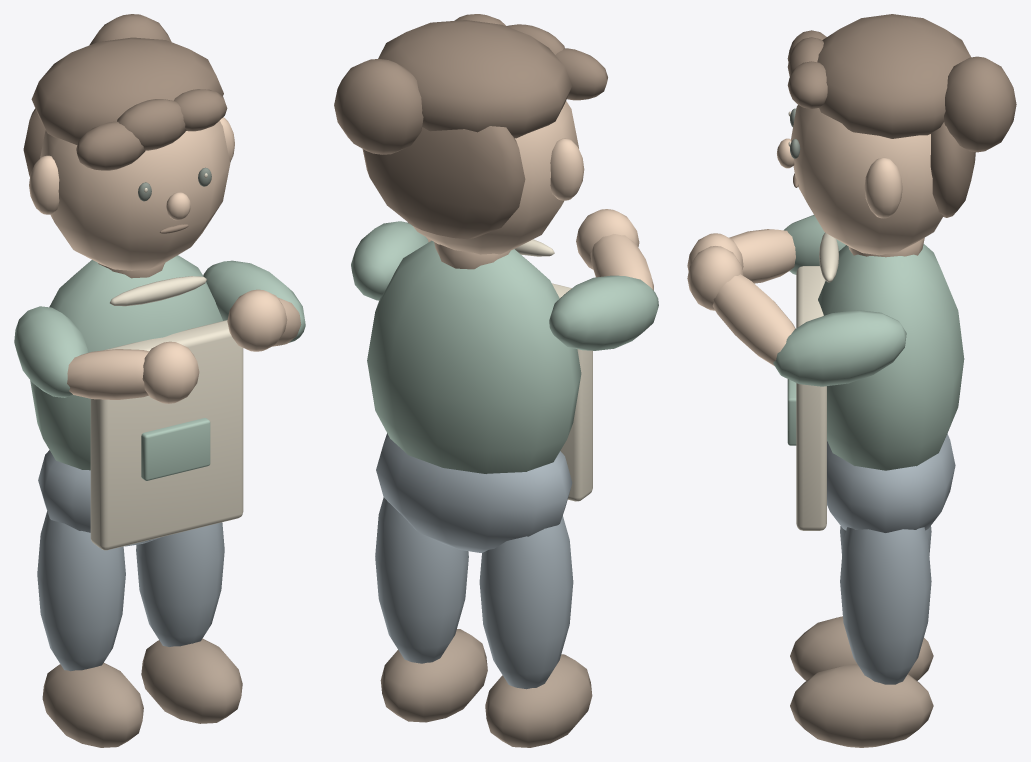
File: mommy-work.glb
3 views of the same model, side by side, from view 1: azimuth 30°, elevation 25°; view 2: azimuth 150°, elevation 25°; view 3: azimuth 270°, elevation 25° (orthographic). The views are drawn at different scales.
Parts seen in each view (by area): view 1: Apron.002, Head.008, Padded shirt.008, Hair crown.008, Trouser leg.016, Trouser leg.017, Rounded boot.016, Rounded boot.017, Shirt sleeve.016, Forearm.016, Apron pocket.002, Soft trouser seat.008 (+12 smaller); view 2: Padded shirt.008, Hair crown.008, Hair back.008, Soft trouser seat.008, Trouser leg.016, Trouser leg.017, Hair bun.002, Rounded boot.017, Rounded boot.016, Shirt sleeve.016, Head.008, Shirt sleeve.017 (+7 smaller); view 3: Padded shirt.008, Hair crown.008, Head.008, Trouser leg.017, Rounded boot.017, Soft trouser seat.008, Shirt sleeve.017, Apron.002, Hair bun.002, Forearm.017, Rounded boot.016, Hair back.008 (+9 smaller).
Part boxes in pixels (x1,y1,x2,y2): Apron.002: (90,320,243,550); Head.008: (40,121,230,270); Padded shirt.008: (30,255,222,470); Hair crown.008: (31,37,223,144); Trouser leg.016: (37,511,125,671); Trouser leg.017: (136,522,224,646); Rounded boot.016: (42,663,143,747); Rounded boot.017: (141,638,242,723); Shirt sleeve.016: (14,306,88,397); Forearm.016: (67,349,148,399); Apron pocket.002: (141,418,210,480); Soft trouser seat.008: (38,450,160,546); Padded shirt.008: (367,240,581,473); Hair crown.008: (378,20,572,138); Hair back.008: (362,126,525,239); Soft trouser seat.008: (376,433,572,552); Trouser leg.016: (479,515,573,689); Trouser leg.017: (375,497,468,663); Hair bun.002: (334,59,423,154); Rounded boot.017: (380,629,487,722); Rounded boot.016: (485,654,592,747); Shirt sleeve.016: (549,275,658,350); Head.008: (413,101,578,254); Shirt sleeve.017: (351,221,428,300); Padded shirt.008: (818,244,964,470); Hair crown.008: (817,14,970,138); Head.008: (790,104,943,255); Trouser leg.017: (840,527,931,684); Rounded boot.017: (790,664,933,747); Soft trouser seat.008: (827,433,955,532); Shirt sleeve.017: (773,310,906,386); Apron.002: (796,266,826,530); Hair bun.002: (944,56,1016,152); Forearm.017: (712,274,795,365); Rounded boot.016: (790,616,933,680); Hair back.008: (930,122,975,217).
Size of the model in its own units: 0.7271 by 1.74 by 0.755.
